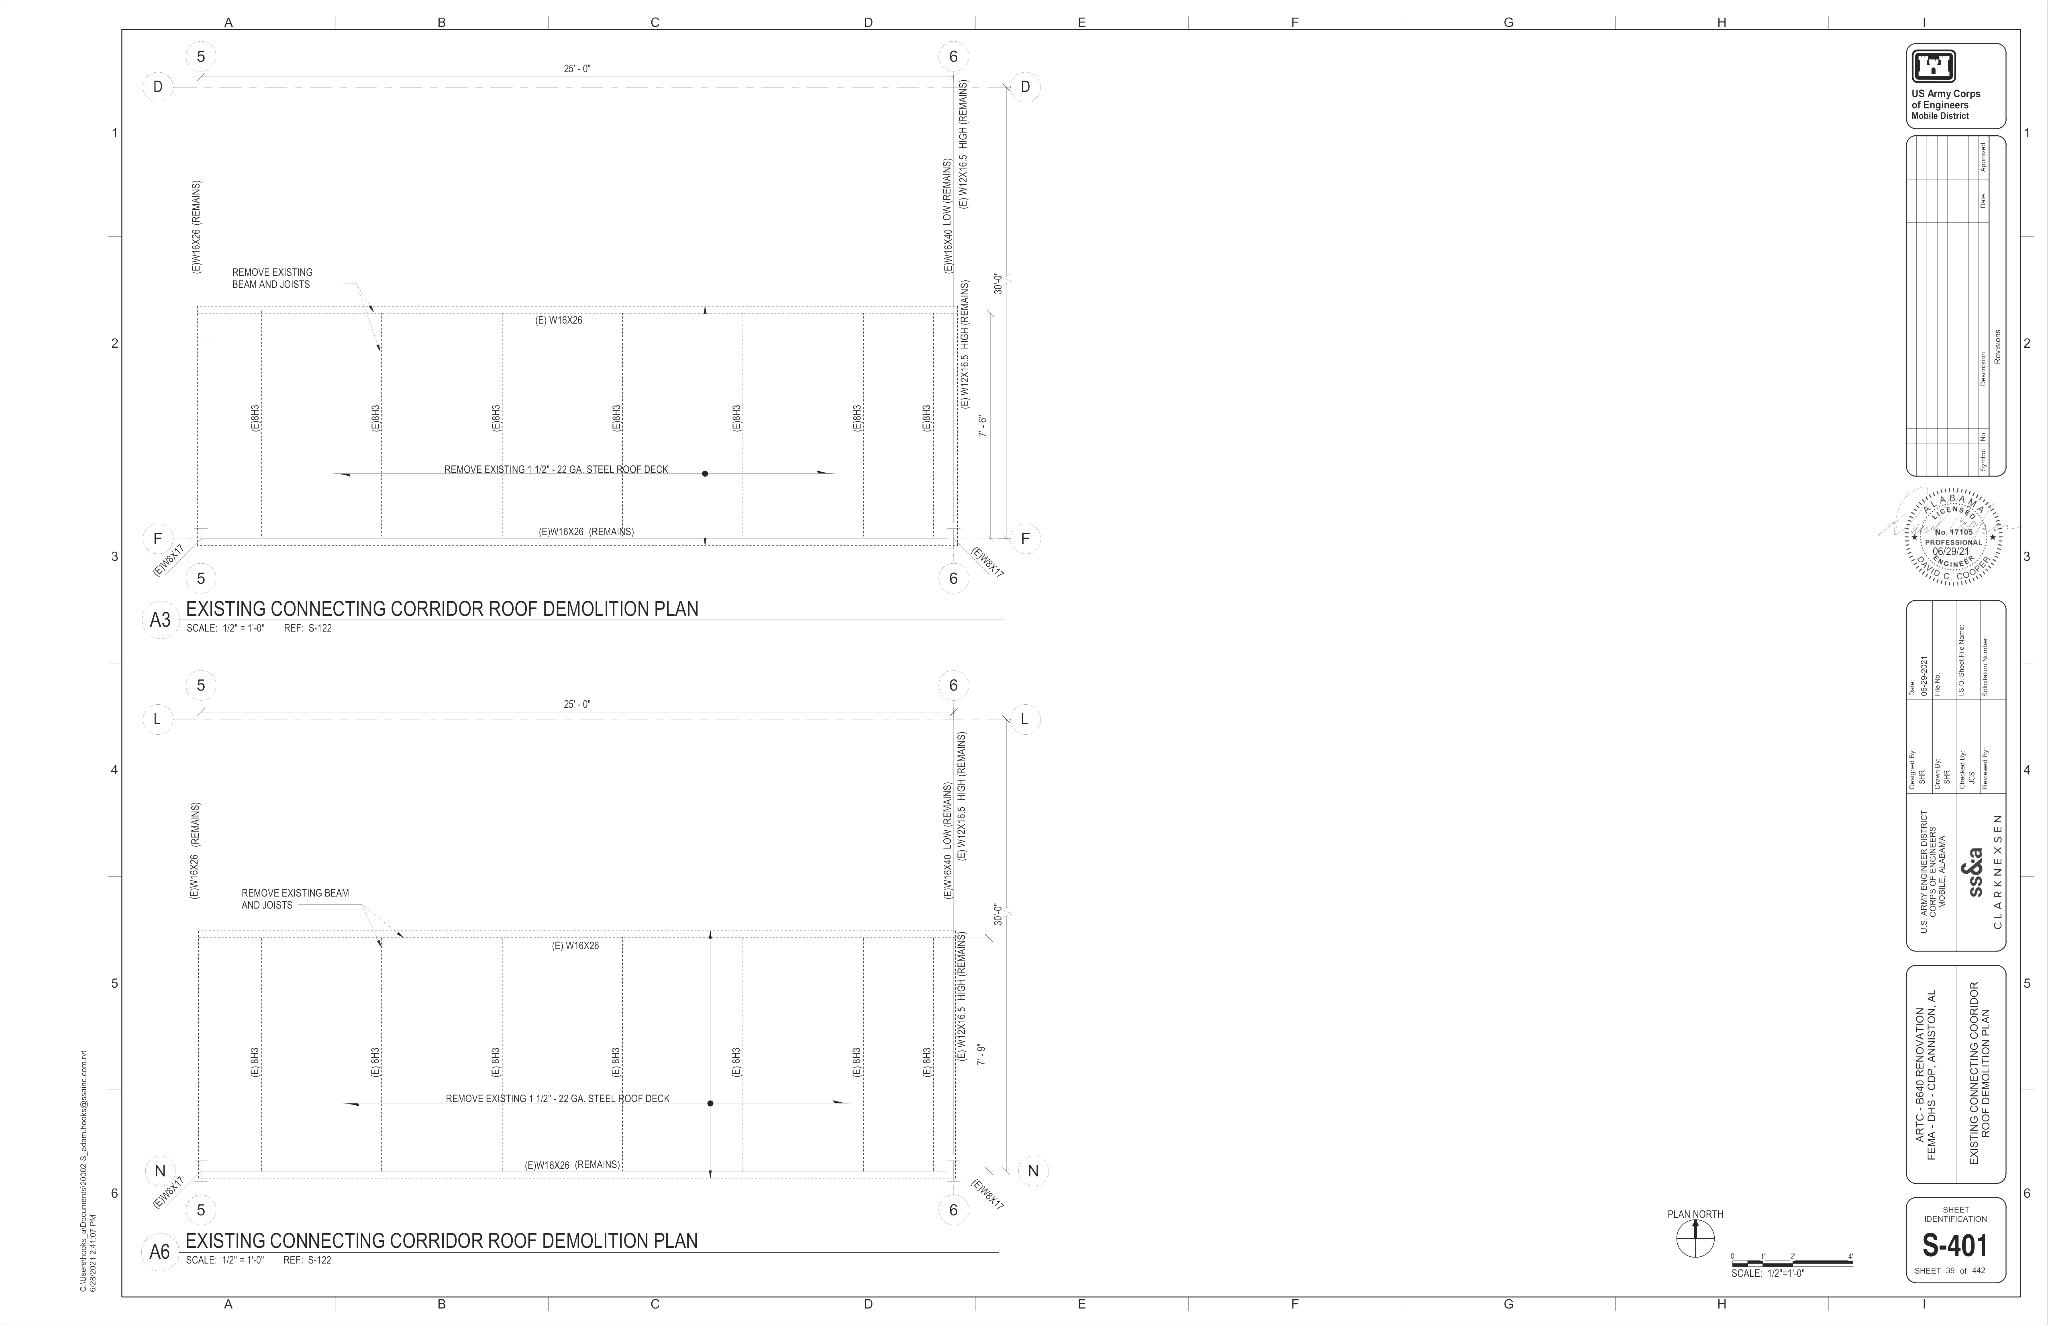title: (133, 588, 1011, 646), (136, 1227, 1006, 1276)
